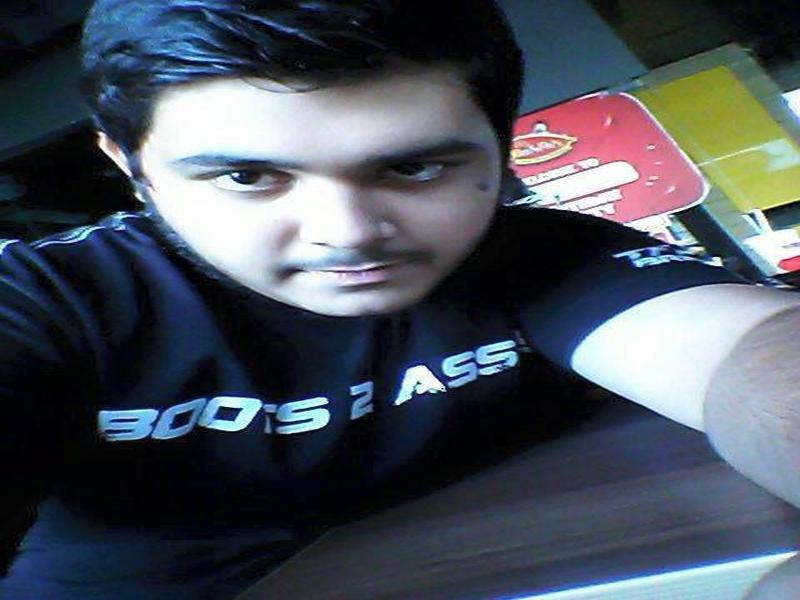without_mask: (140, 74, 500, 318)
